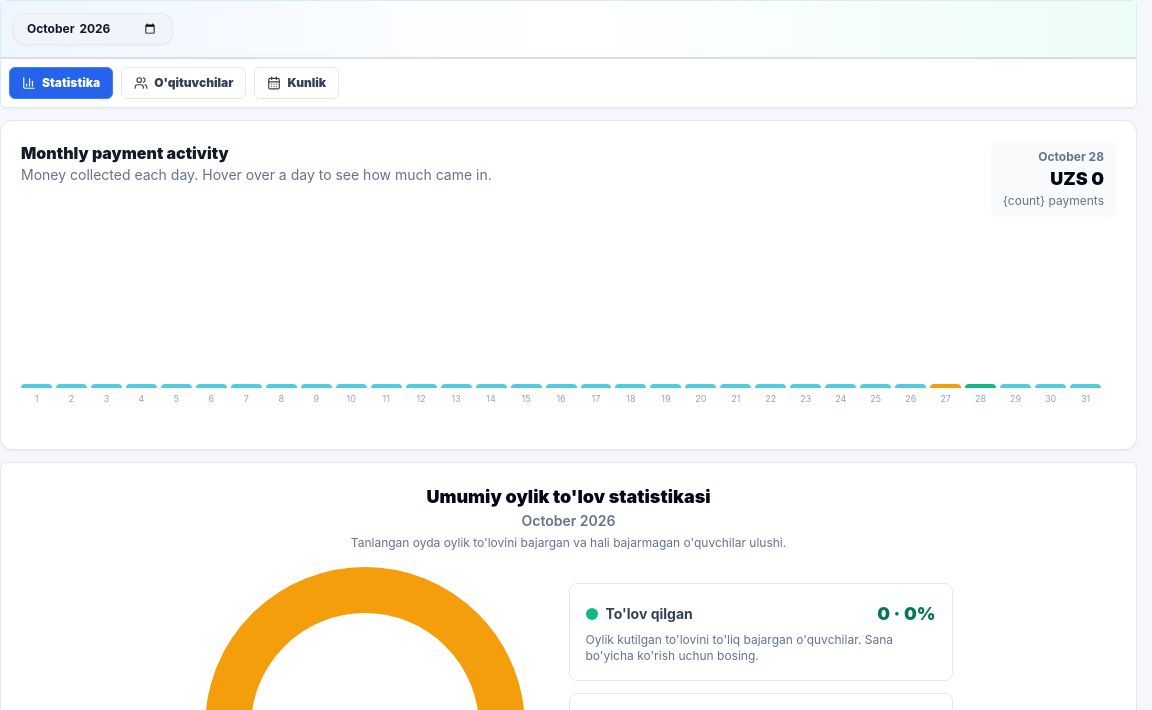
Test case: OwnerFinancePanel daily tab › recomputes the daily list when the month changes
Replace the text in the field with "2026-08" at (93, 29), box [13,13,173,45]
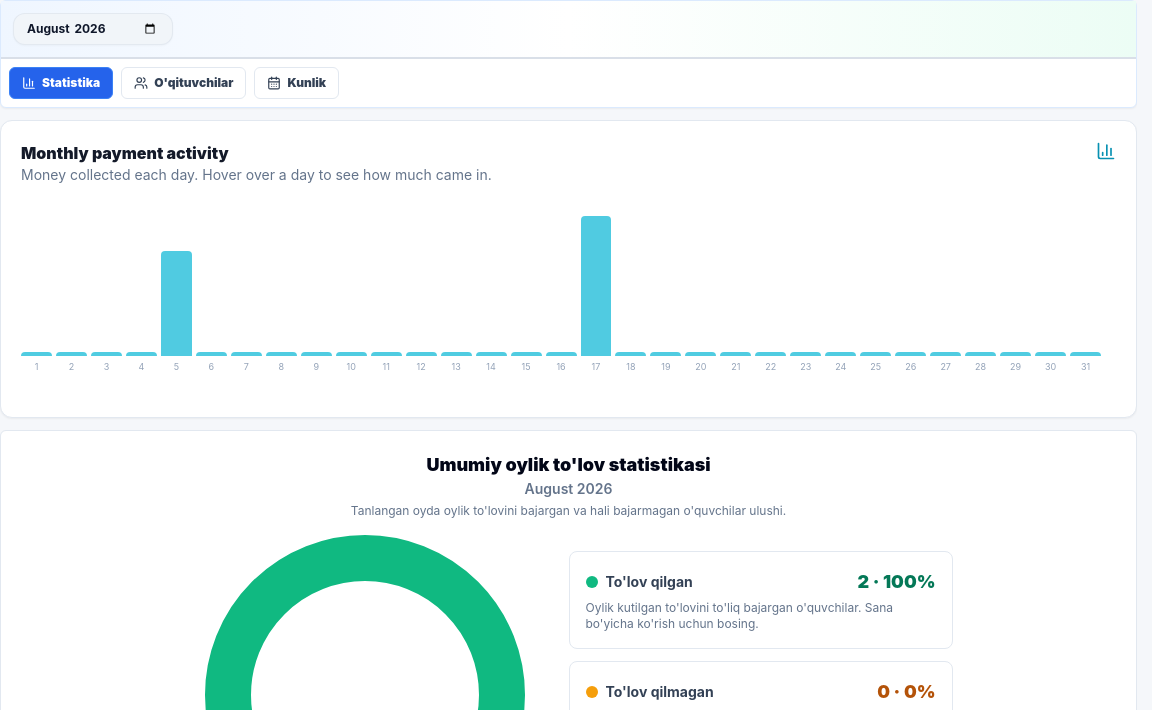
Click the button "Kunlik" at (297, 83), box [254,67,339,99]
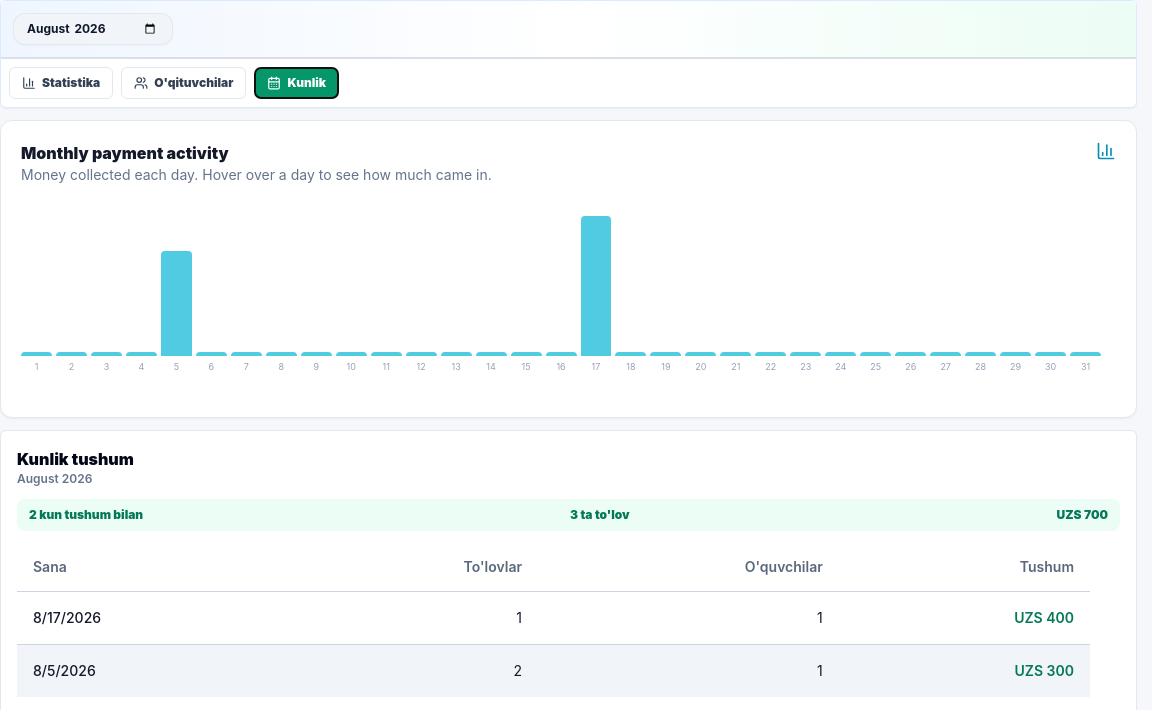
Replace the text in the field with "2026-09" at (93, 29), box [13,13,173,45]
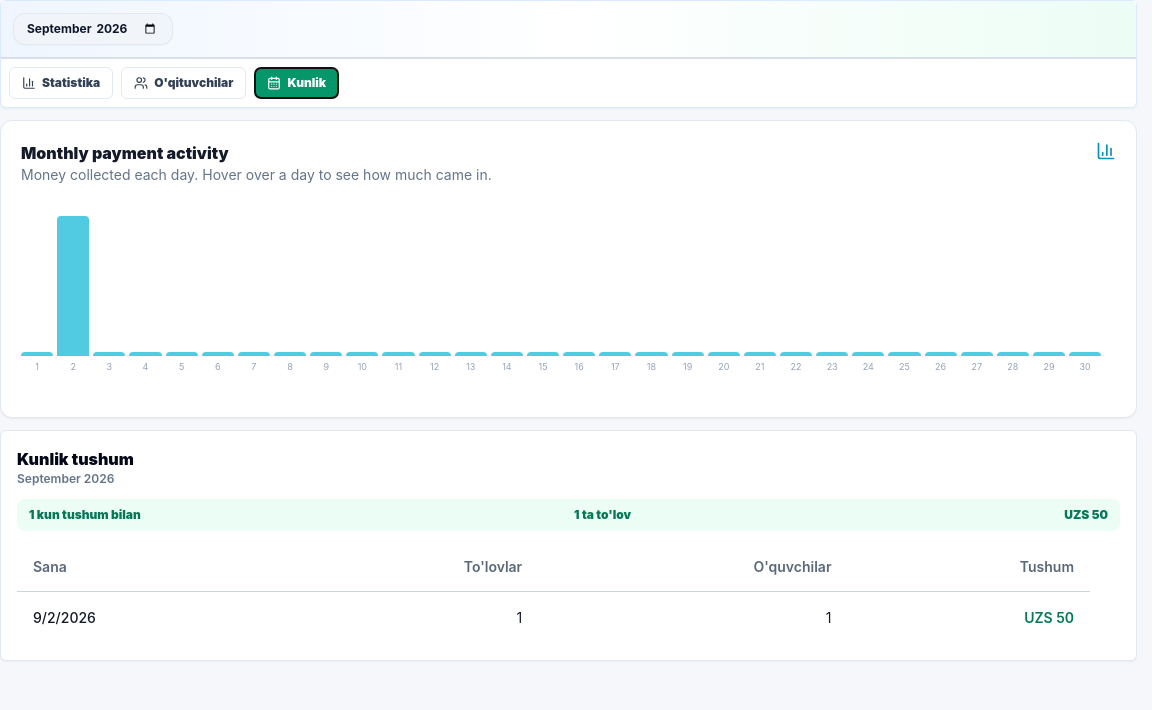
Expected: the text "1 kun tushum bilan" is shown, [29,507,141,523]
